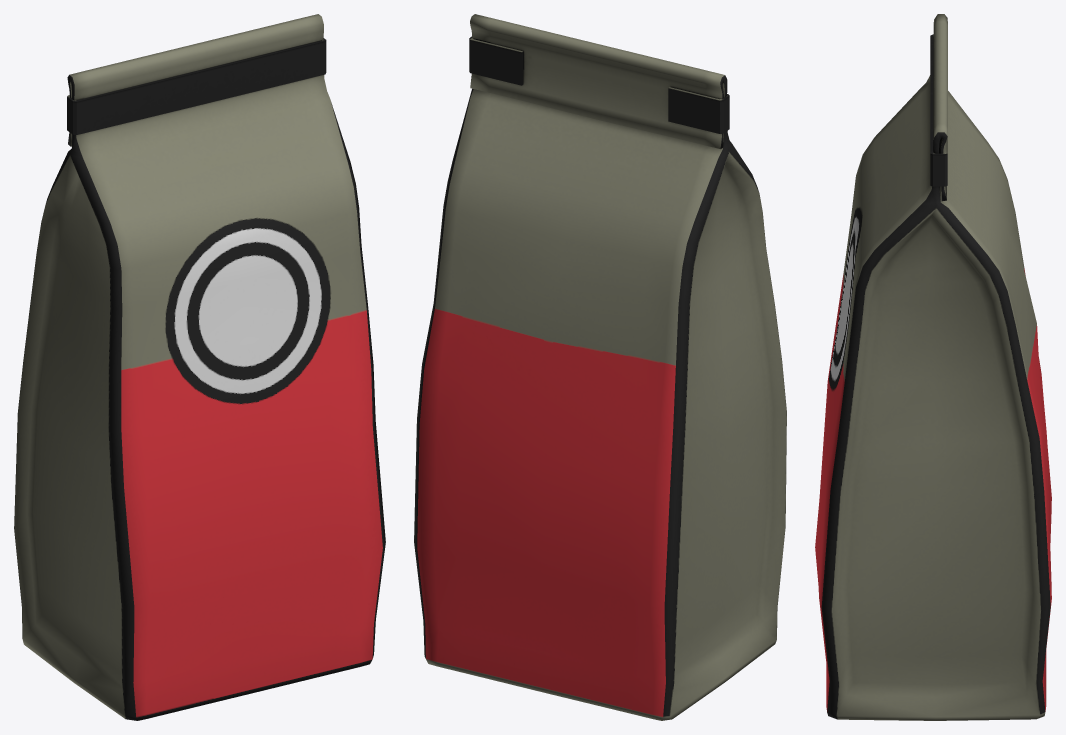
Rendered from coffee_bag.glb.
3 renders of one model, left to right at view 1: azimuth 30°, elevation 25°; view 2: azimuth 150°, elevation 25°; view 3: azimuth 270°, elevation 25°, orthographic. The views are drawn at different scales.
Visible parts, largest first — view 1: CoffeeBag_Target; view 2: CoffeeBag_Target; view 3: CoffeeBag_Target.
Boxes of the visible parts, <box> form: CoffeeBag_Target: <box>14,14,385,720</box>; CoffeeBag_Target: <box>414,14,786,720</box>; CoffeeBag_Target: <box>815,14,1051,720</box>.
Size of the model in its own units: 0.0991 by 0.2123 by 0.0774.
Materials: 1 (1 with a texture image).
